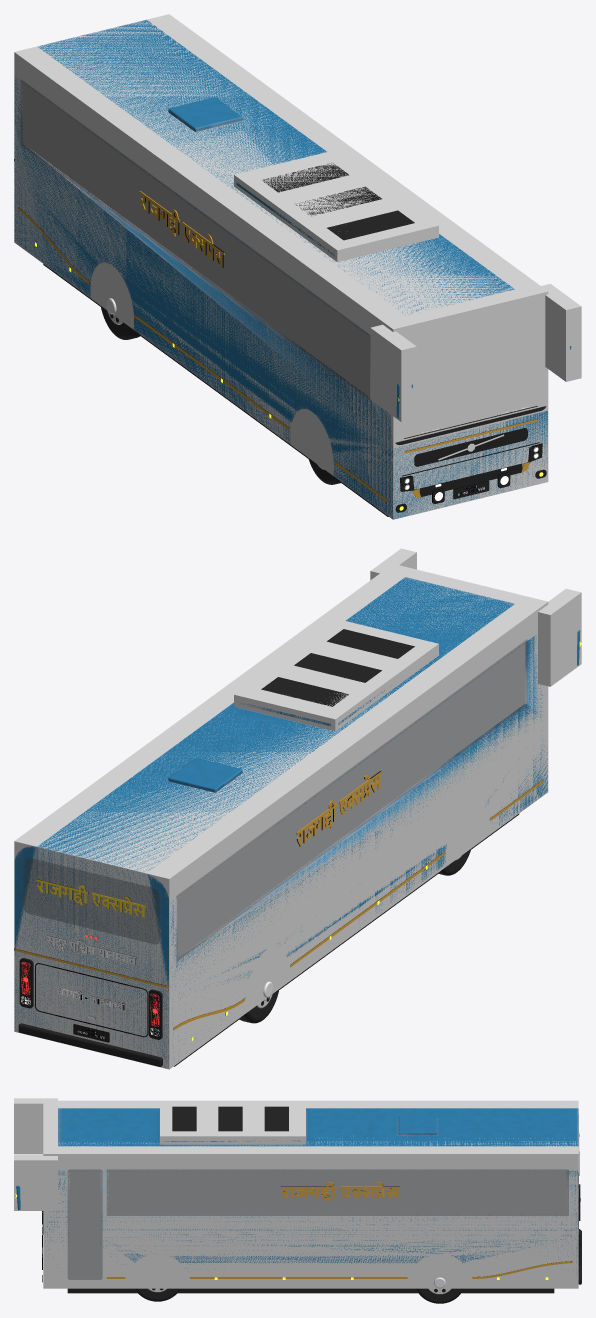
File: sudurpaschim_bus.glb
3 views of the same model, one above another, from view 1: azimuth 30°, elevation 25°; view 2: azimuth 150°, elevation 25°; view 3: azimuth 270°, elevation 25° (orthographic). The views are drawn at different scales.
Visible parts, largest first — view 1: COL-body, GEO-sudurpaschim_bus, COL-roof_ac, COL-mirror_r, COL-mirror_l, PART-wheel_ror; view 2: COL-body, GEO-sudurpaschim_bus, COL-roof_ac, COL-mirror_r, PART-wheel_ror; view 3: COL-body, GEO-sudurpaschim_bus, COL-roof_ac, COL-mirror_l, COL-mirror_r, PART-wheel_rol, PART-wheel_fl.
Part boxes in pixels (x1,y1,x2,y2): COL-body: (14,14,548,519); GEO-sudurpaschim_bus: (14,19,581,519); COL-roof_ac: (234,150,438,262); COL-mirror_r: (370,324,416,421); COL-mirror_l: (541,283,581,381); PART-wheel_ror: (100,298,140,339); COL-body: (14,564,548,1069); GEO-sudurpaschim_bus: (14,577,581,1067); COL-roof_ac: (234,619,438,731); COL-mirror_r: (538,588,581,686); PART-wheel_ror: (239,981,279,1023); COL-body: (43,1100,578,1288); GEO-sudurpaschim_bus: (15,1106,581,1293); COL-roof_ac: (160,1101,305,1144); COL-mirror_l: (14,1155,57,1210); COL-mirror_r: (14,1098,57,1154); PART-wheel_rol: (416,1277,463,1303); PART-wheel_fl: (135,1288,179,1301).
Size of the model in its own units: 3.06 by 3.64 by 11.67.
2 materials, 1 textured.
